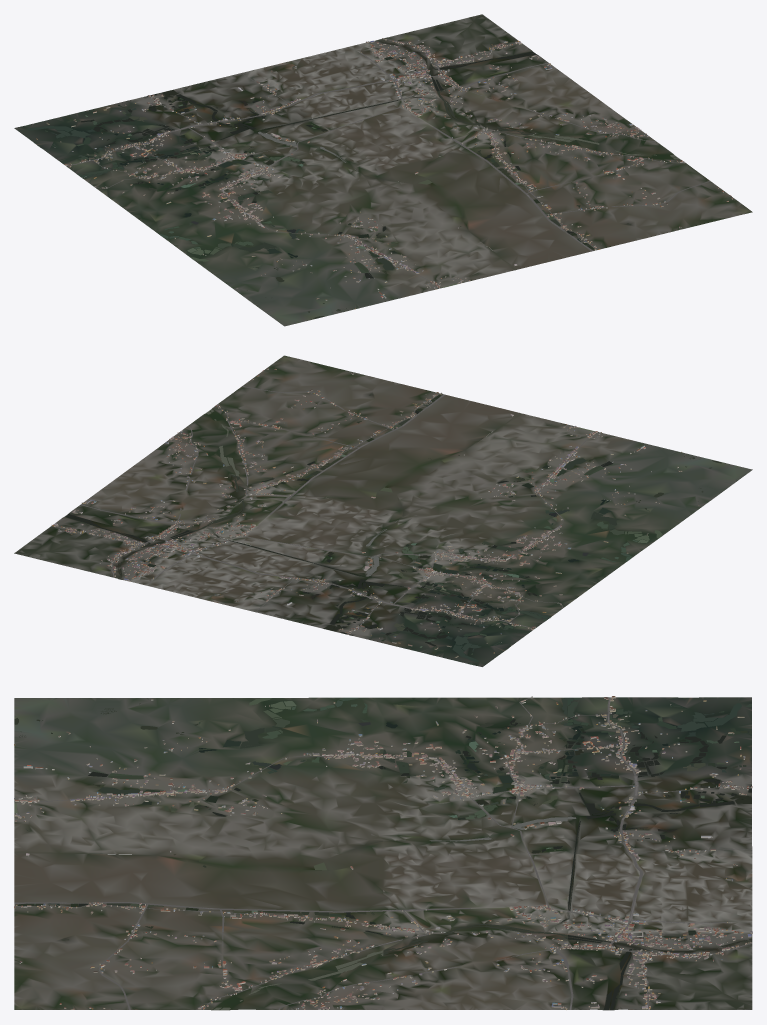
3 views of the same model, one above another, from view 1: azimuth 30°, elevation 25°; view 2: azimuth 150°, elevation 25°; view 3: azimuth 270°, elevation 25° (orthographic). The views are drawn at different scales.
Visible parts, largest first — view 1: ground, buildings, water, roads; view 2: ground, buildings, water, roads; view 3: ground, buildings, water, roads.
Part boxes in pixels (bbox=[...]): ground: bbox=[14, 14, 752, 326]; buildings: bbox=[36, 38, 733, 309]; water: bbox=[23, 40, 698, 318]; roads: bbox=[66, 38, 710, 281]; ground: bbox=[14, 355, 752, 666]; buildings: bbox=[51, 368, 699, 657]; water: bbox=[65, 393, 721, 664]; roads: bbox=[56, 386, 588, 634]; ground: bbox=[14, 697, 752, 1010]; buildings: bbox=[14, 696, 752, 1009]; water: bbox=[14, 697, 751, 1010]; roads: bbox=[14, 697, 751, 1009].
Bounding box in the file's own units: 5616 × 31.54 × 5616.
